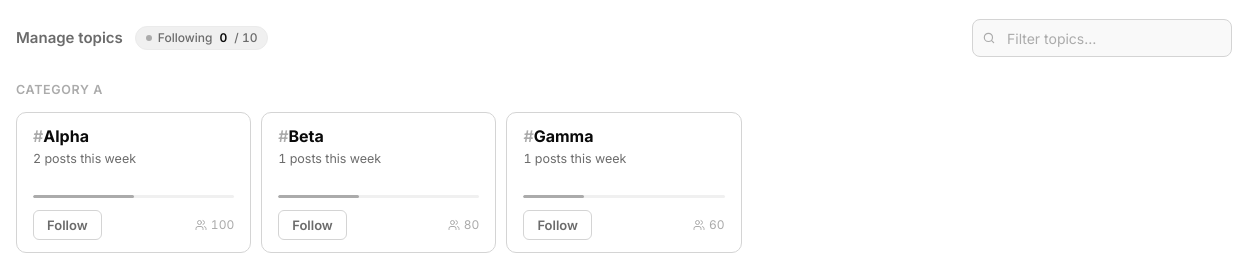
Test case: ManageTopics › (MT-5) search filters topics by displayName
This screenshot has width=1252, height=270.
Type "Alph" into the field with placeholder "Filter topics…".
click(1102, 38); type("Alph")  # box [972,19,1232,57]
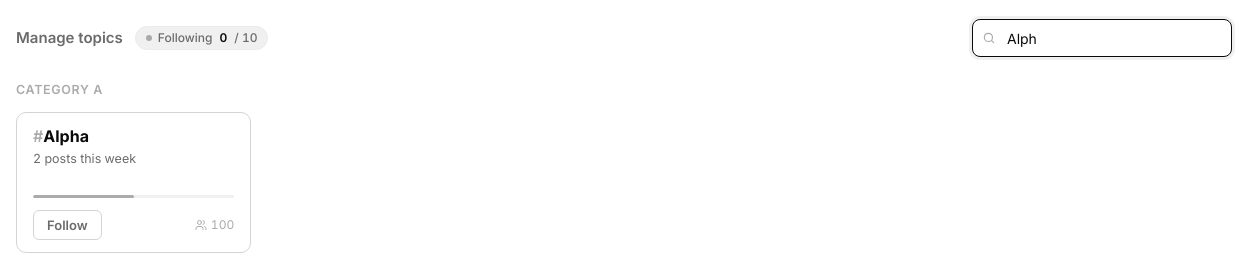
Expected: the text "Alpha" is shown, [43,126,89,146]
Expected: the text "Beta" is gone
Expected: the text "Gamma" is gone
